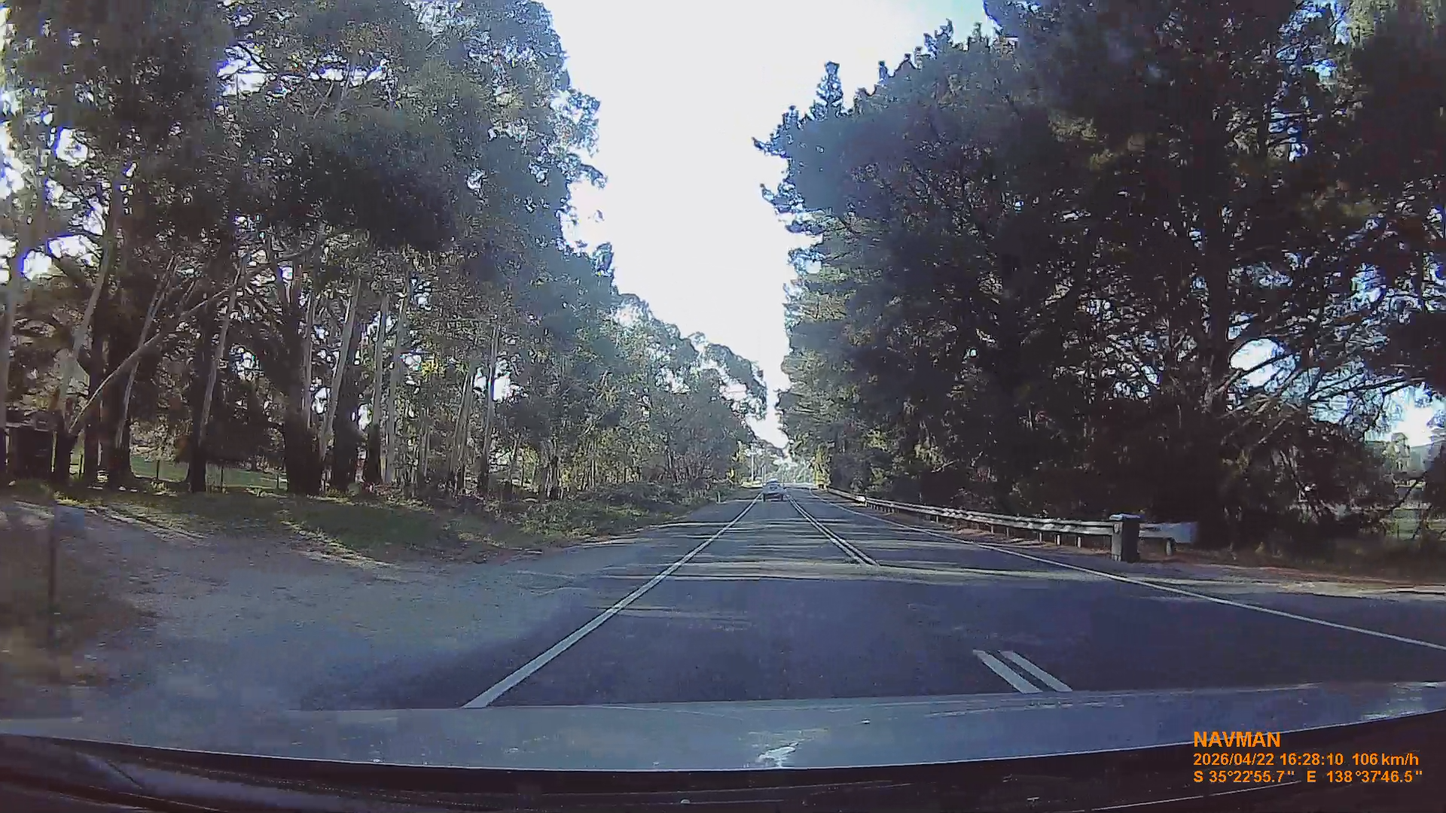road barriers: (859, 499, 1113, 546)
